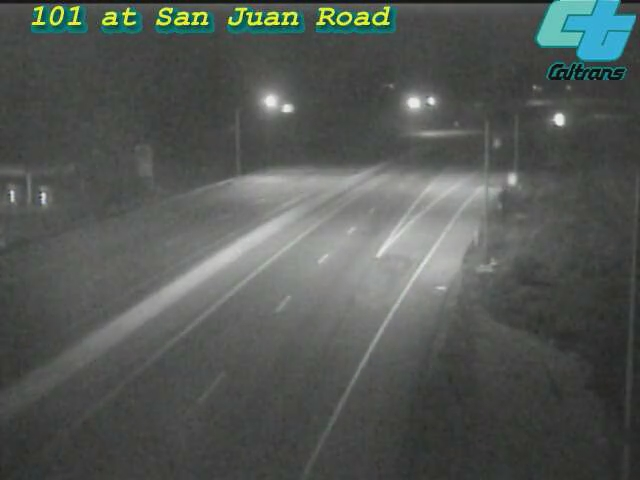vehicle: (532, 96, 582, 146)
